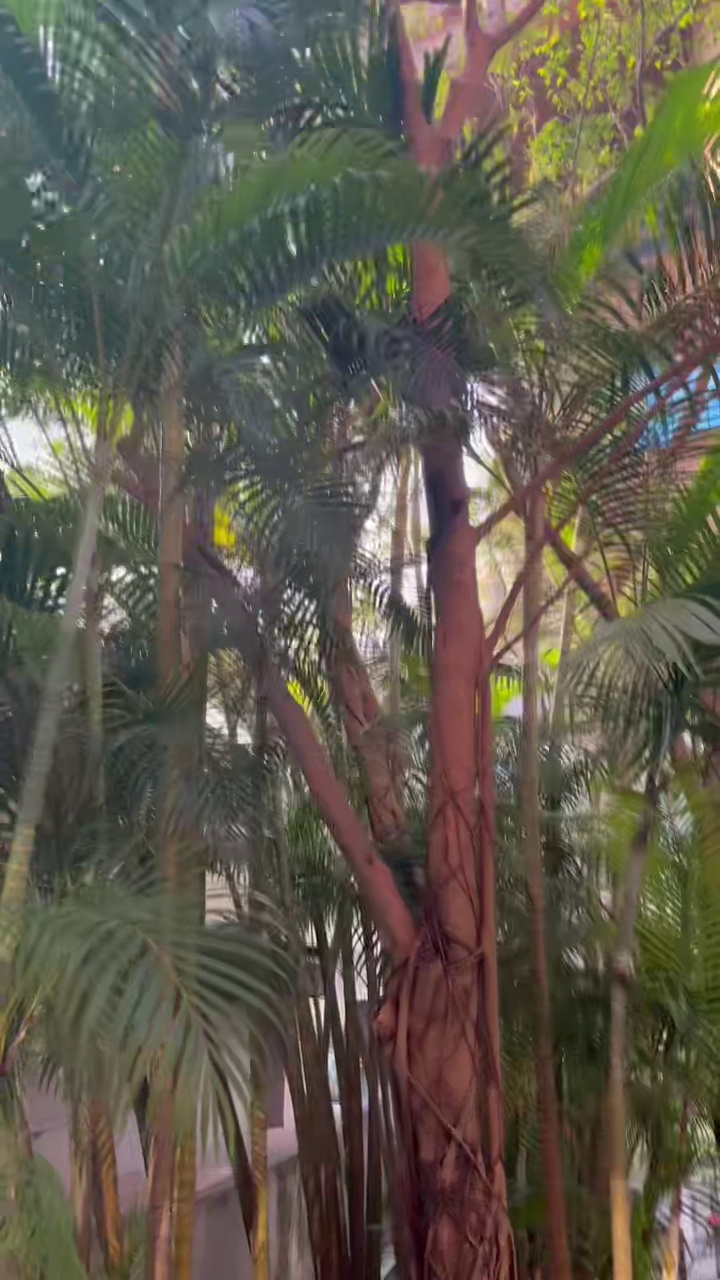Ficus benjamina: (268, 0, 540, 1279)
